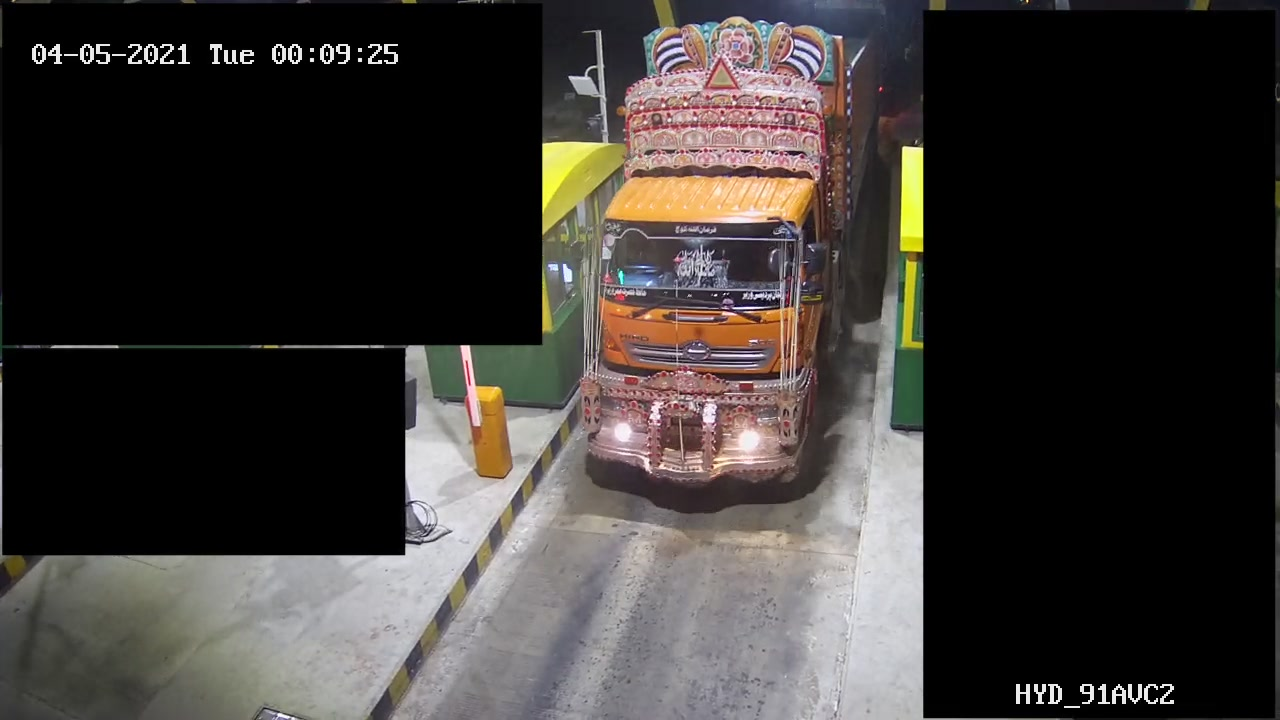F6: (570, 15, 898, 521)
